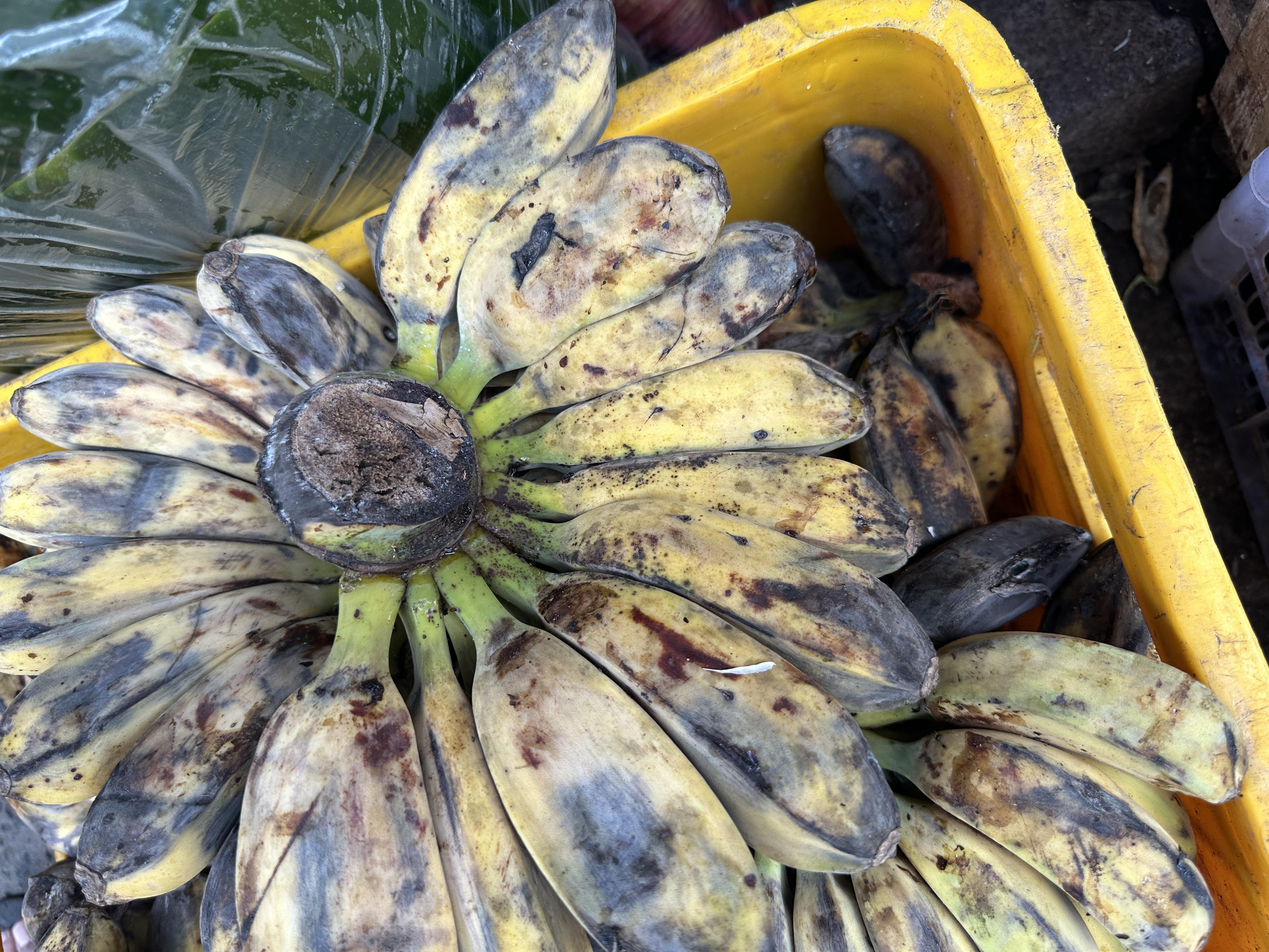ripe: (234, 0, 935, 952), (0, 235, 395, 952)
underripe: (793, 516, 1247, 952)
